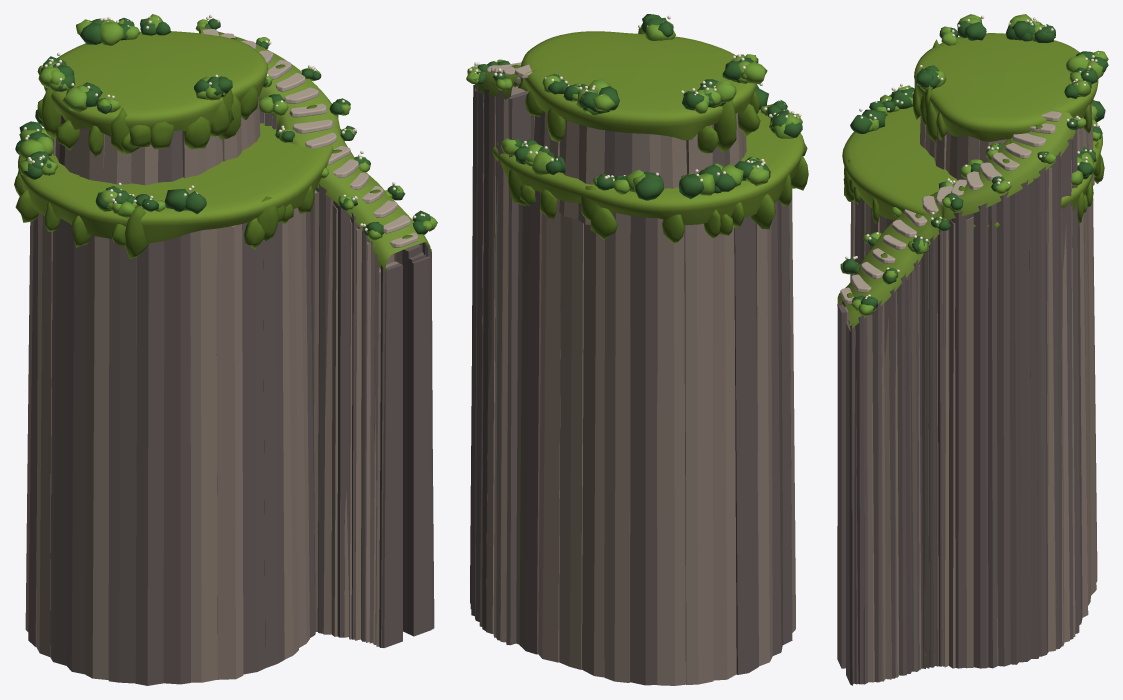
The model's file is promontory2.glb.
3 views of the same model, side by side, from view 1: azimuth 30°, elevation 25°; view 2: azimuth 150°, elevation 25°; view 3: azimuth 270°, elevation 25° (orthographic). The views are drawn at different scales.
Parts seen in each view (by area): view 1: stone_shadow, stone, moss_top, moss_drape, bush, bush_light, grass, step_stone, flower; view 2: stone, stone_shadow, moss_top, moss_drape, bush, bush_light, flower, grass; view 3: stone_shadow, stone, moss_top, grass, bush, bush_light, step_stone, moss_drape, flower.
Part boxes in pixels (x1,y1,x2,y2): stone_shadow: (28, 96, 434, 685); stone: (25, 97, 411, 682); moss_top: (18, 31, 333, 243); moss_drape: (14, 38, 412, 258); bush: (15, 18, 430, 235); bush_light: (18, 14, 437, 240); grass: (199, 26, 431, 274); step_stone: (202, 29, 418, 247); flower: (23, 14, 425, 231); stone: (479, 85, 795, 685); stone_shadow: (470, 84, 792, 685); moss_top: (491, 31, 804, 225); moss_drape: (508, 28, 808, 243); bush: (477, 14, 802, 200); bush_light: (466, 21, 802, 195); flower: (469, 15, 801, 182); grass: (474, 69, 537, 96); stone_shadow: (837, 129, 1082, 685); stone: (842, 103, 1097, 682); moss_top: (842, 33, 1102, 228); grass: (837, 108, 1075, 331); bush: (842, 21, 1108, 310); bush_light: (840, 14, 1108, 316); step_stone: (840, 111, 1061, 304); moss_drape: (843, 39, 1104, 297); flower: (845, 15, 1099, 298).
Size of the model in its own units: 27.56 by 43.18 by 19.81.
